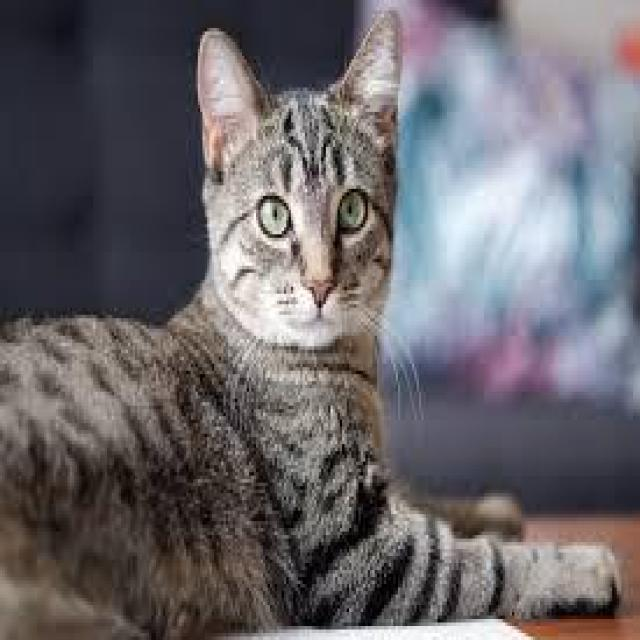Cat: (192, 2, 421, 355)
